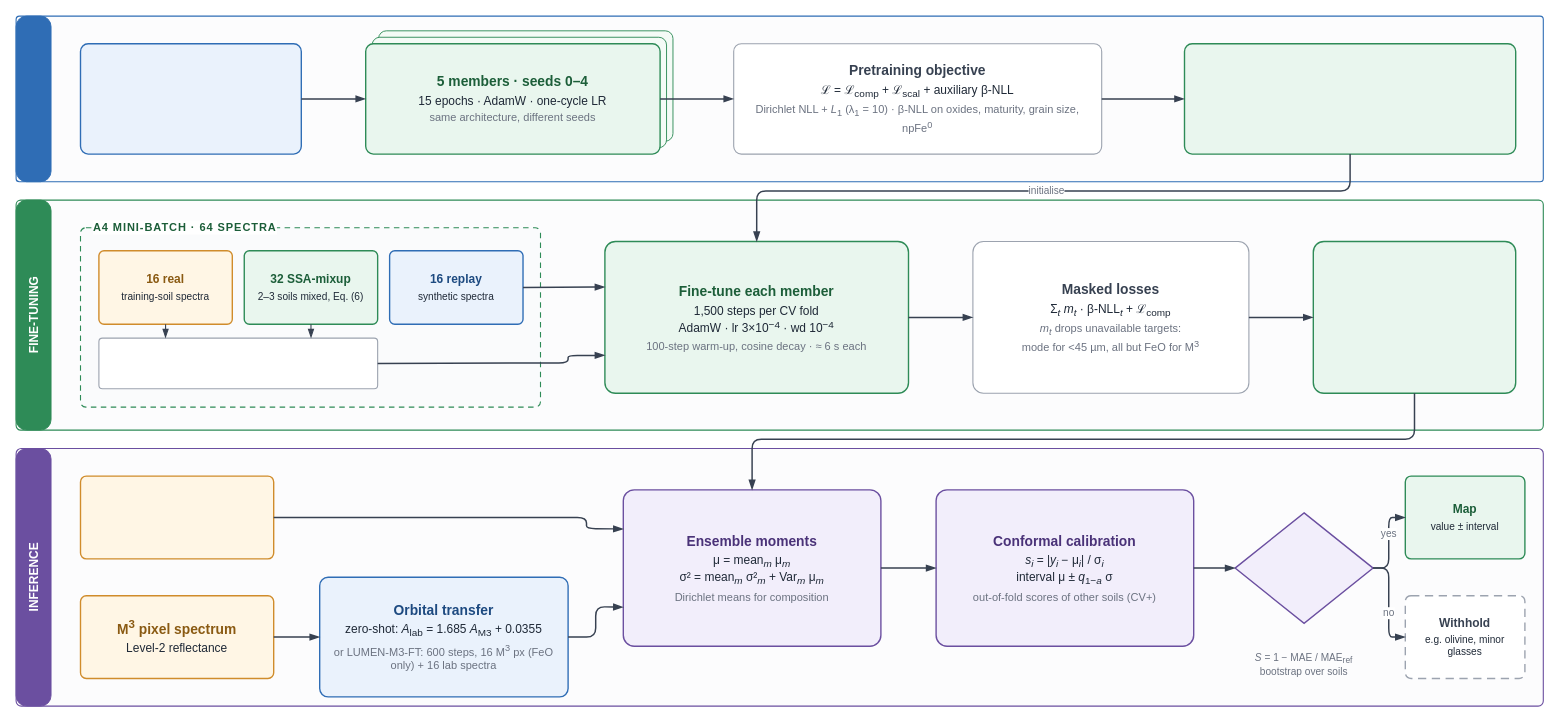
This 1560x723 diagram has some shape labels left out. The shapes that lost their labels are listed below. From the top down, each one's centre as x and y in pixels, then its label:
At [33,98]: "PRETRAINING".
At [190,98]: "Synthetic set 400,000 spectra + labels 20,000 held out for validation".
At [1349,98]: "Pretrained weights θ m 0 5 checkpoints ≈ 45 min on 4 CPU cores".
At [1414,317]: "Fine-tuned ensemble 5 members per fold A2 / A4 chosen by inner 5-fold CV".
At [238,363]: "Calibration + noise randomisation real and mixed spectra only".
At [176,517]: "Lab spectrum RELAB, 71 bands".
At [1303,568]: "Gate 95 % CI of S > 0 ?".
